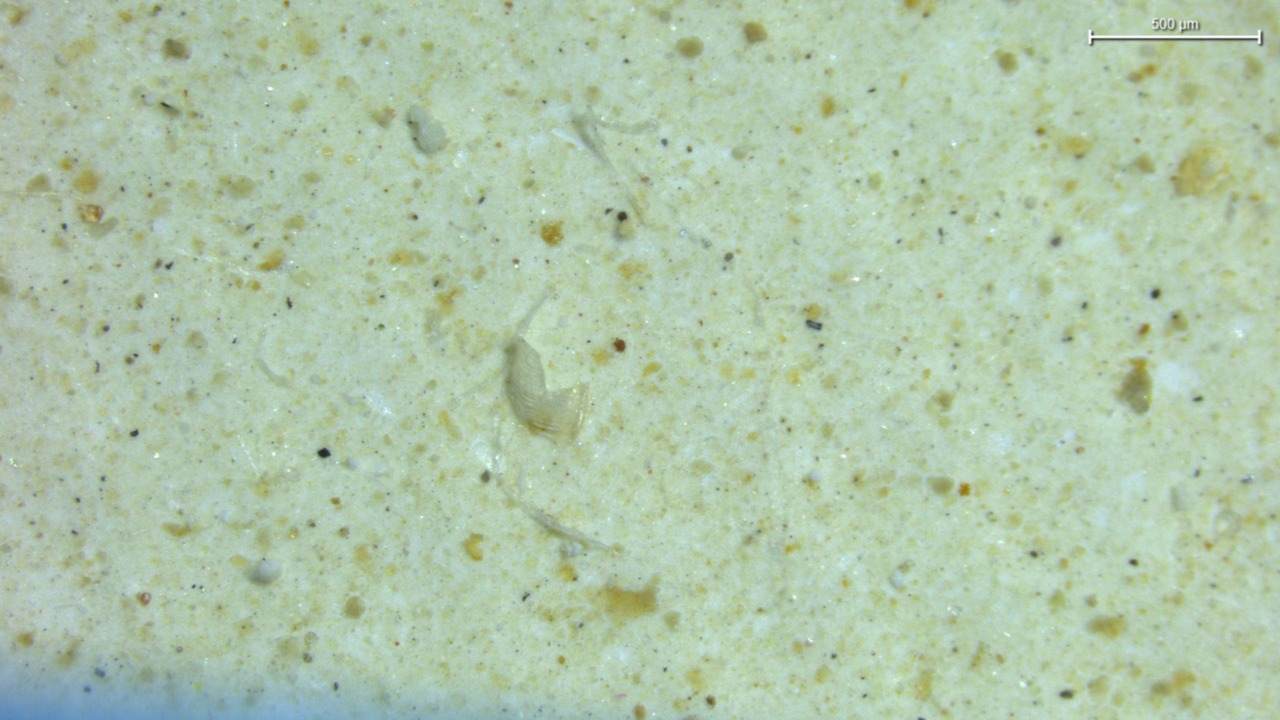microplastic_fragment: (505, 339, 588, 442), (407, 105, 446, 154), (248, 559, 281, 585)
